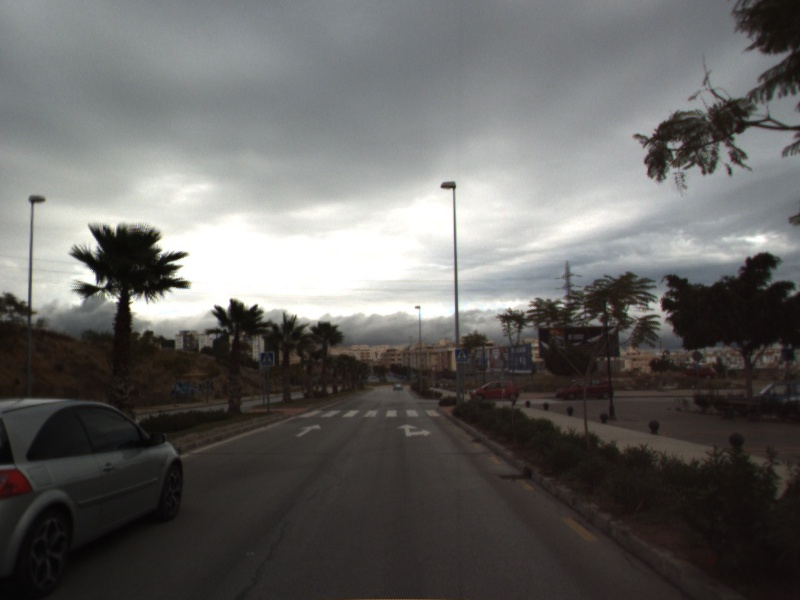STRAIGHT: (294, 422, 323, 439)
STRAIGHT_RIGHT: (395, 422, 433, 438)
